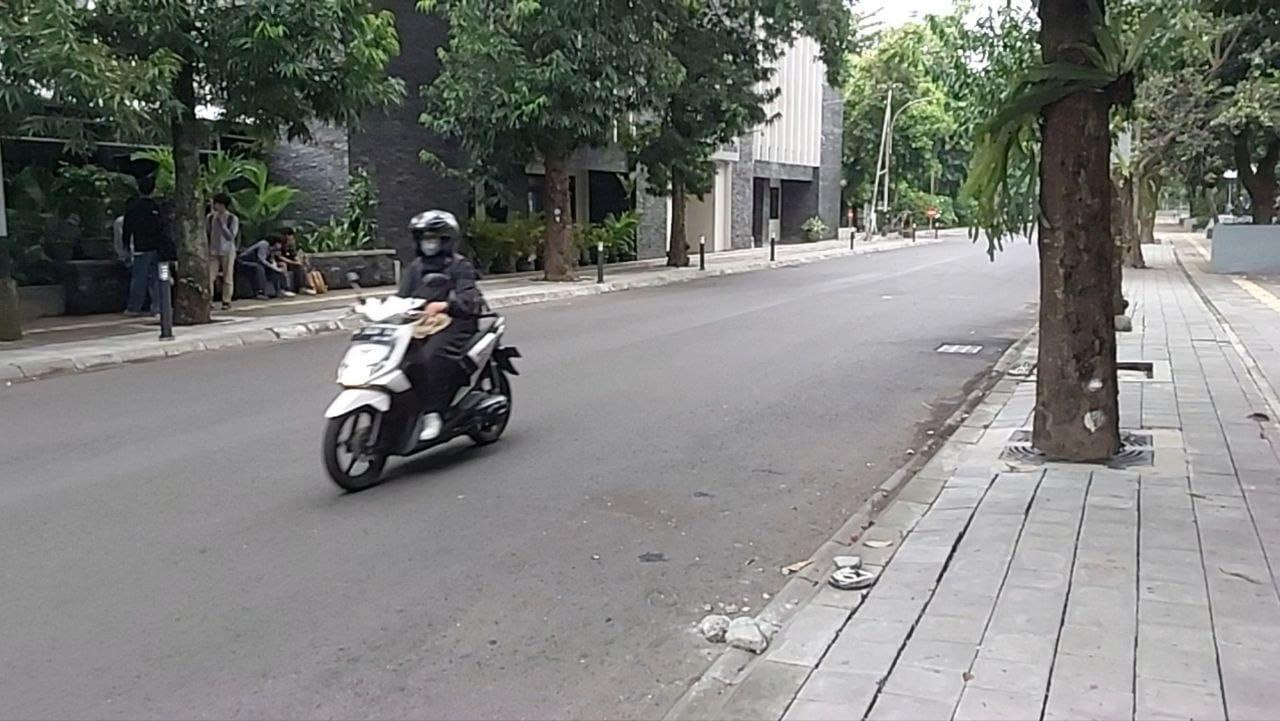helm: (406, 208, 461, 261)
riding: (322, 207, 523, 492)
